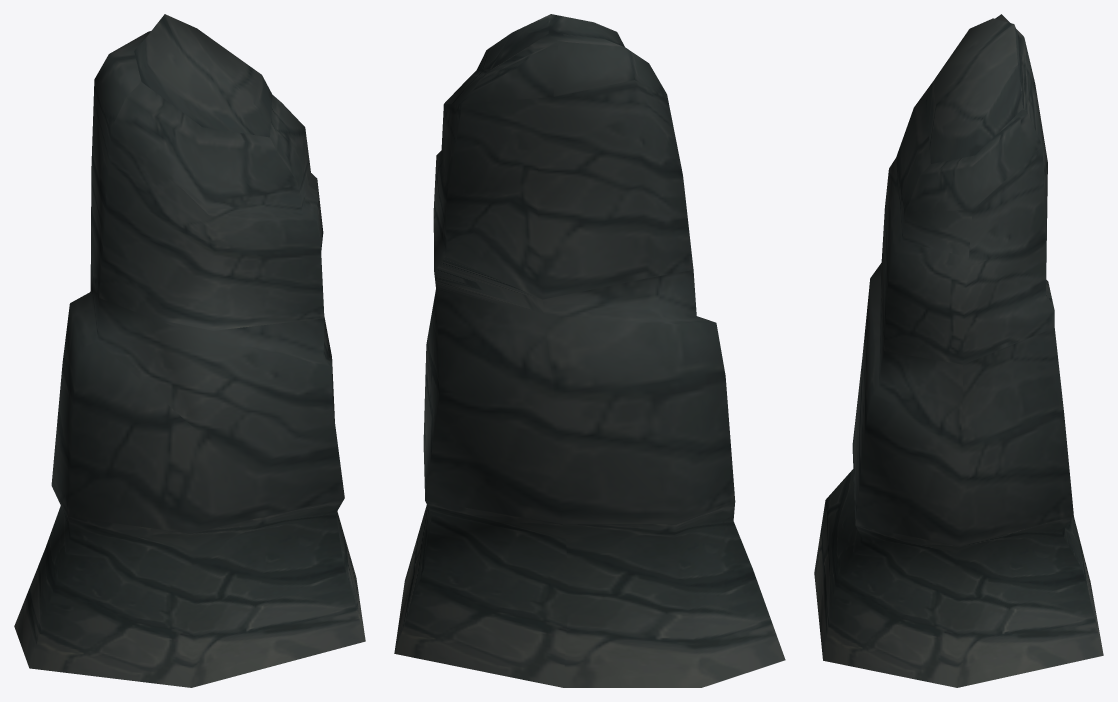
Rendered from oTerModRock03c.FBX.
3 views of the same model, side by side, from view 1: azimuth 30°, elevation 25°; view 2: azimuth 150°, elevation 25°; view 3: azimuth 270°, elevation 25° (orthographic). The views are drawn at different scales.
Visible parts, largest first — view 1: oTerModRock03c; view 2: oTerModRock03c; view 3: oTerModRock03c.
Boxes of the visible parts, x1,y1,x2,y2 form: oTerModRock03c: (14,14,365,687); oTerModRock03c: (394,14,785,687); oTerModRock03c: (814,14,1103,687).
Size of the model in its own units: 40.45 by 66.53 by 29.84.
1 material, 1 textured.
